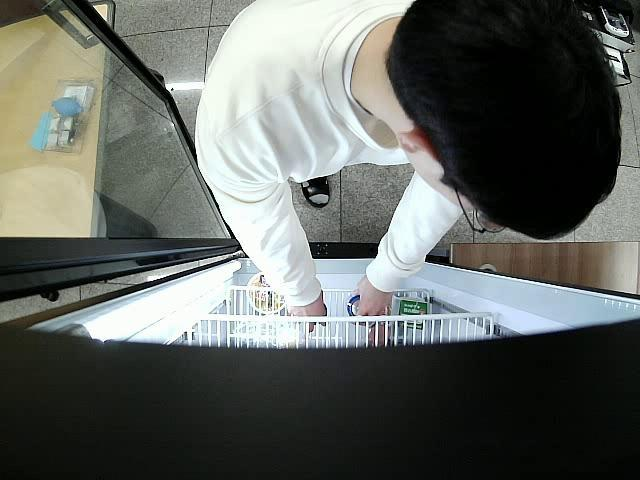13_pocariSweat: (348, 295, 360, 316)
